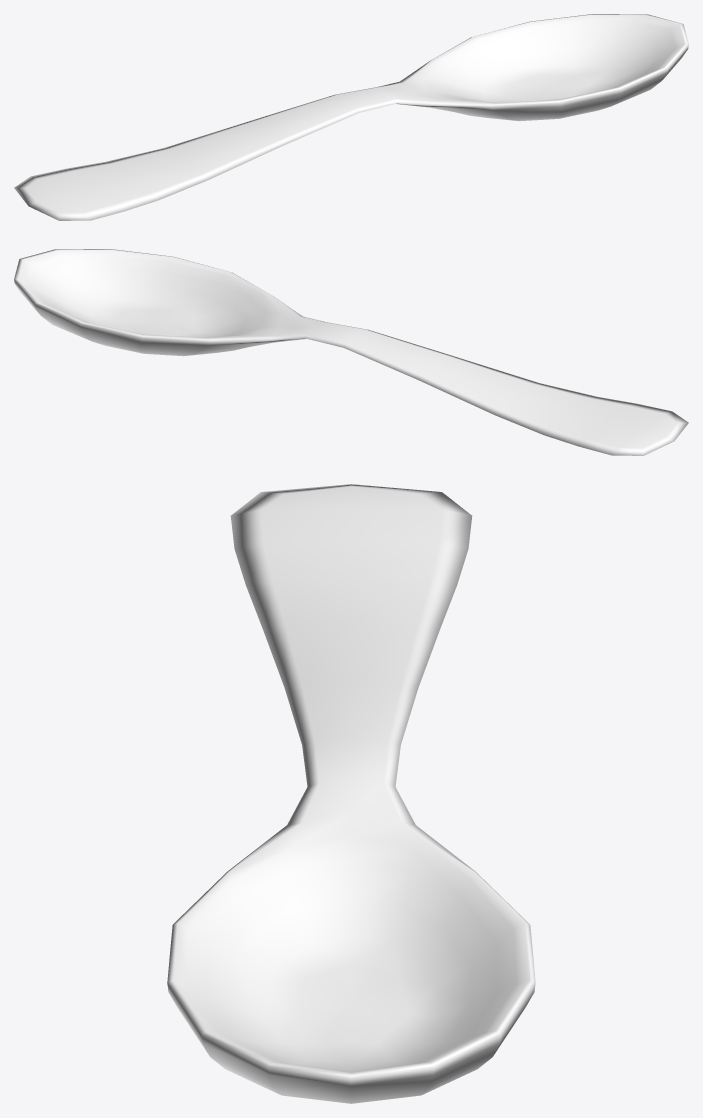
Rendered from Spoon1.fbx.
3 renders of one model, top to bottom at view 1: azimuth 30°, elevation 25°; view 2: azimuth 150°, elevation 25°; view 3: azimuth 270°, elevation 25°, orthographic. The views are drawn at different scales.
Parts seen in each view (by area): view 1: Spoon; view 2: Spoon; view 3: Spoon.
Boxes of the visible parts, left/top/right/bottom form: Spoon: left=14, top=14, right=688, bottom=220; Spoon: left=14, top=249, right=688, bottom=455; Spoon: left=167, top=484, right=535, bottom=1103.
Size of the model in its own units: 9.37 by 0.6847 by 2.28.
